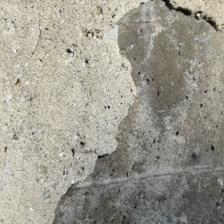Crack: (5, 19, 117, 130), (0, 67, 121, 101), (33, 1, 100, 34)
